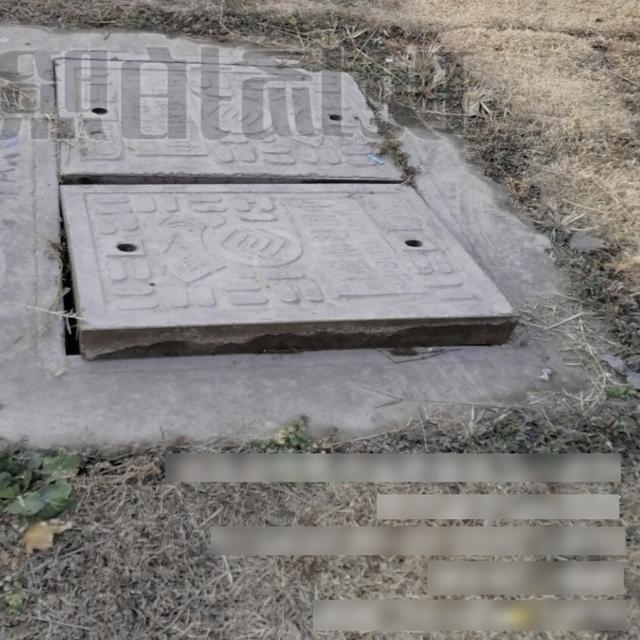uncovered: (46, 55, 526, 369)
